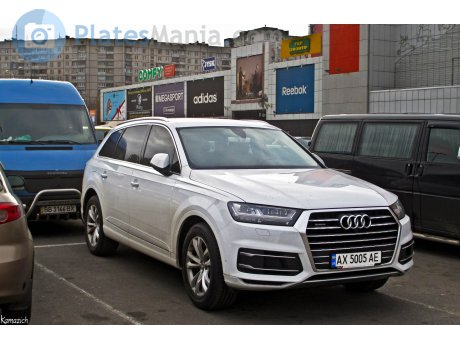car: (81, 114, 417, 307)
plate: (331, 251, 382, 267)
